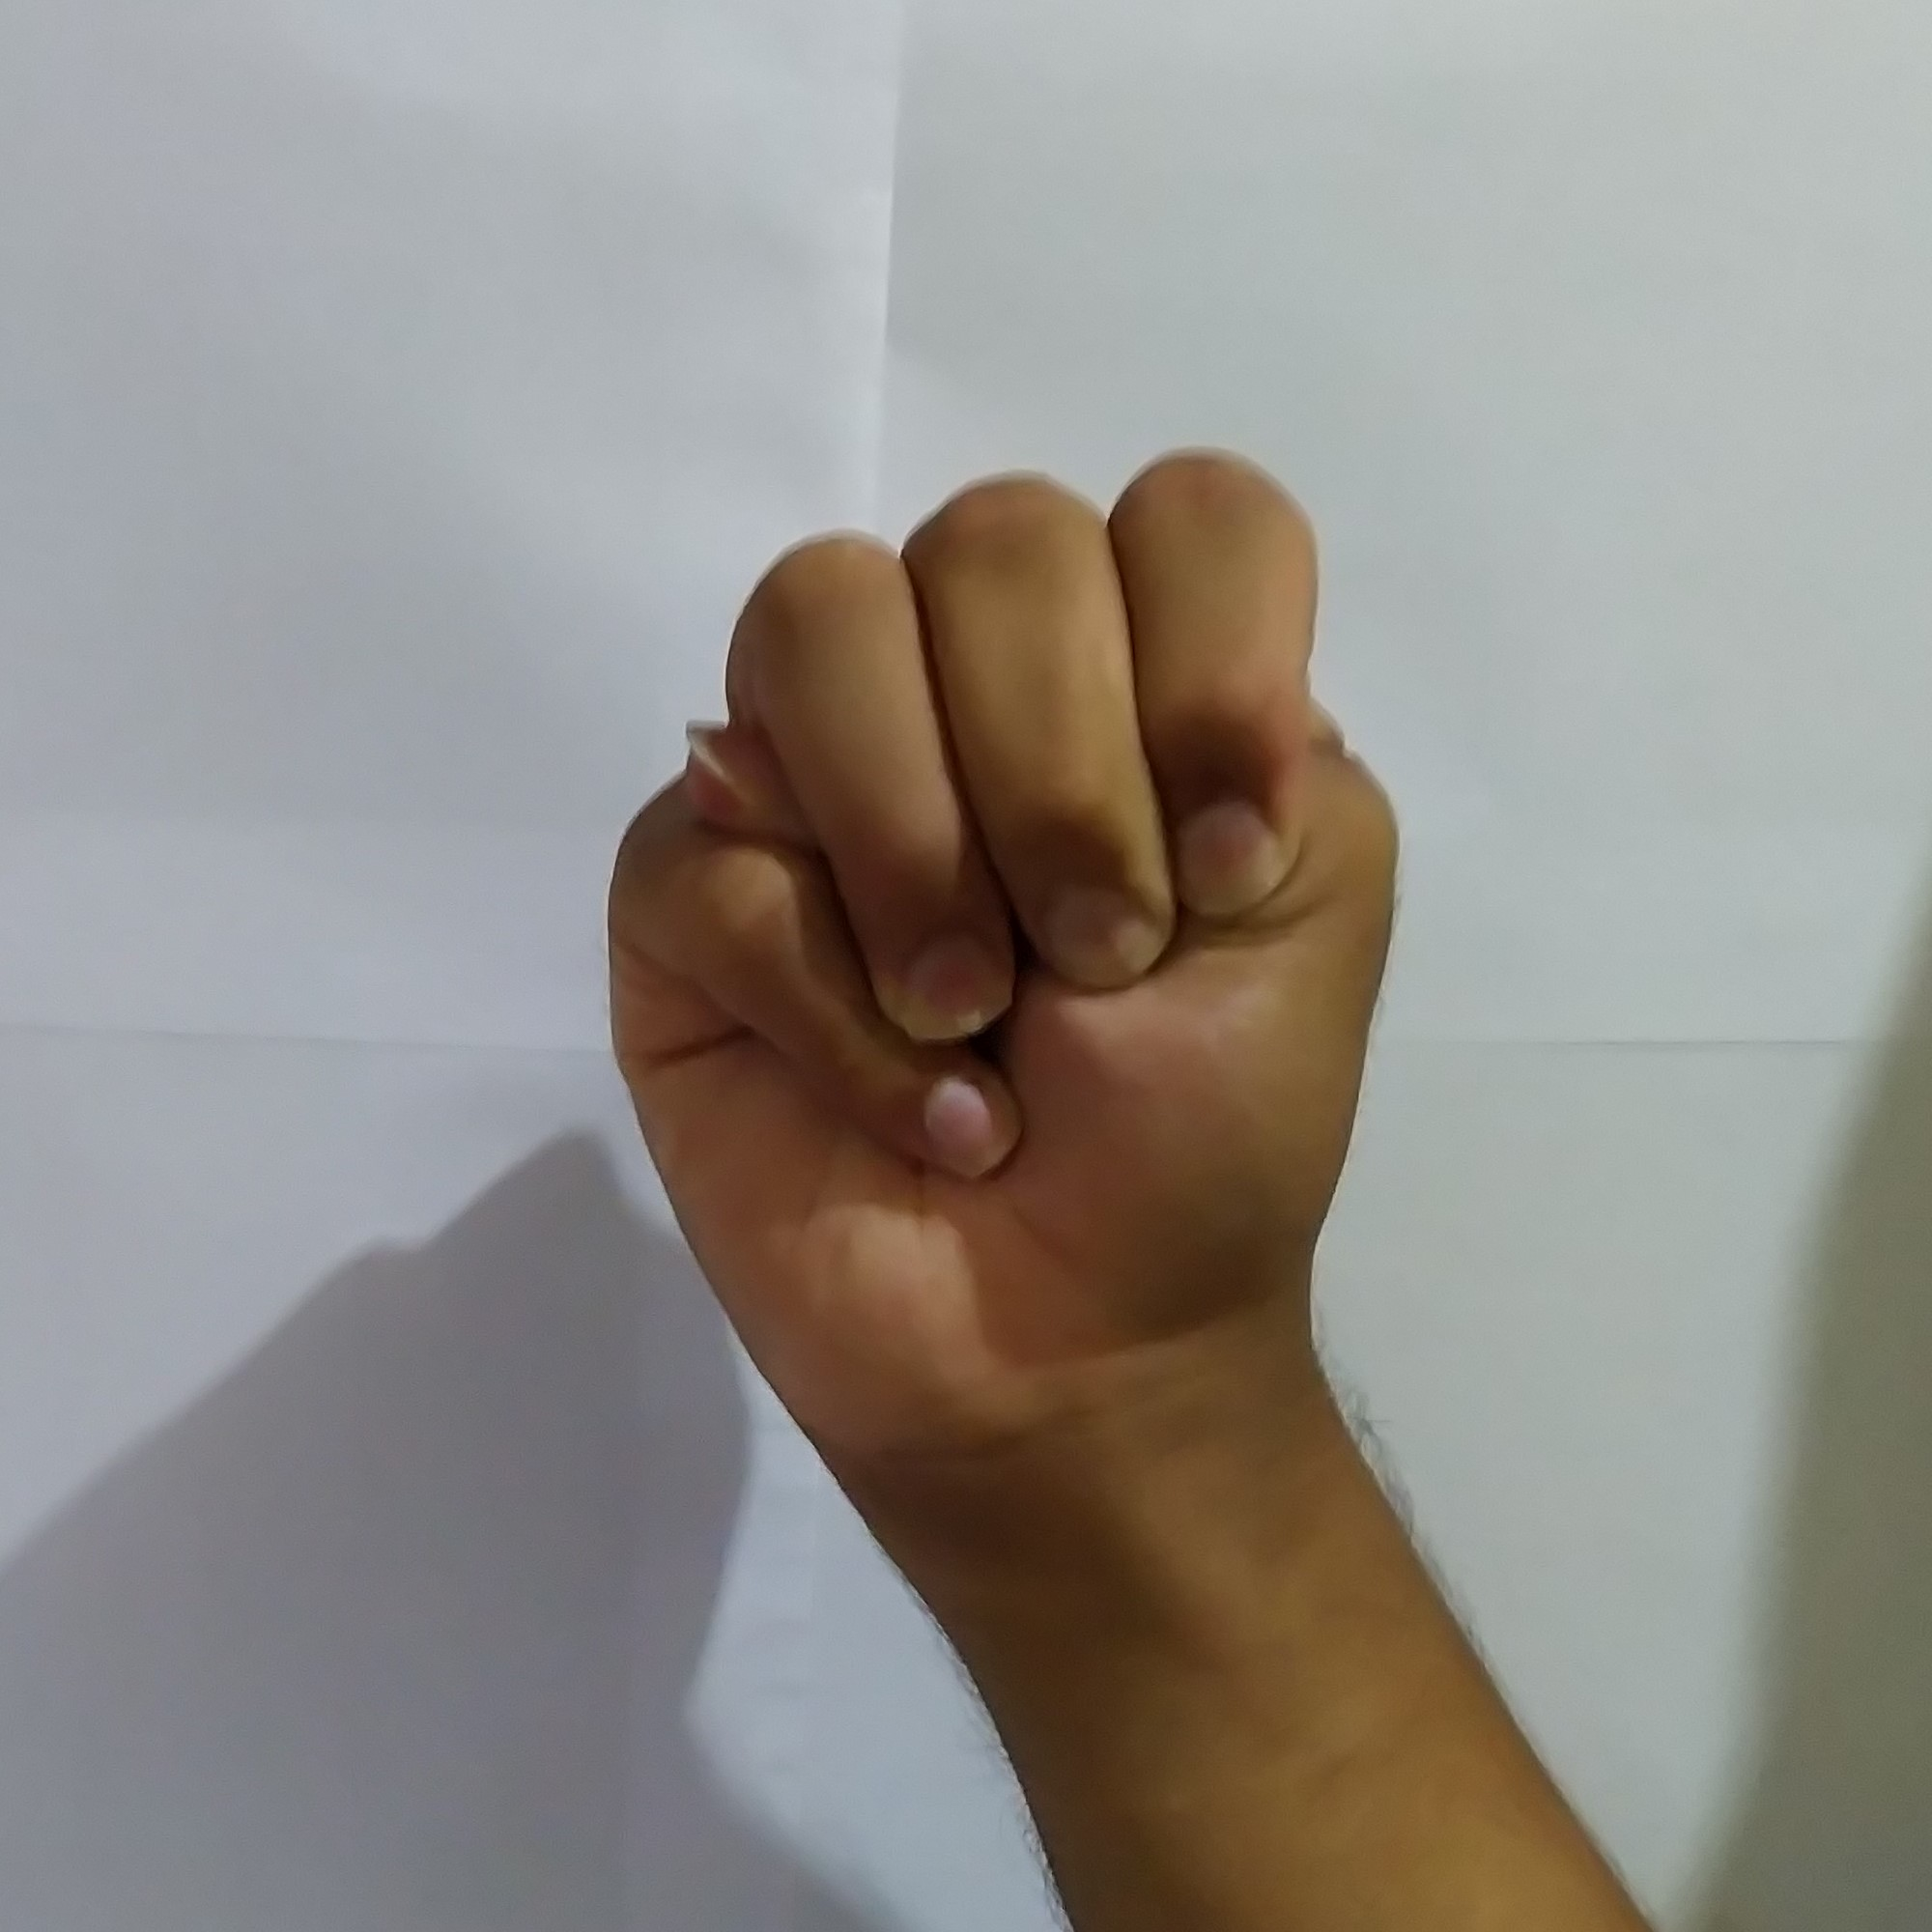M: (577, 423, 1426, 1398)
